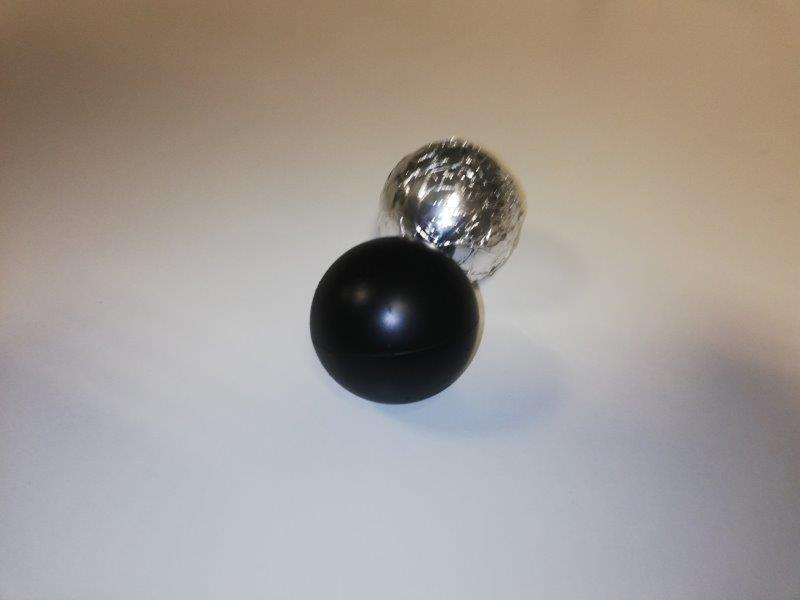bianca: (377, 135, 525, 282)
nera: (306, 235, 480, 405)
